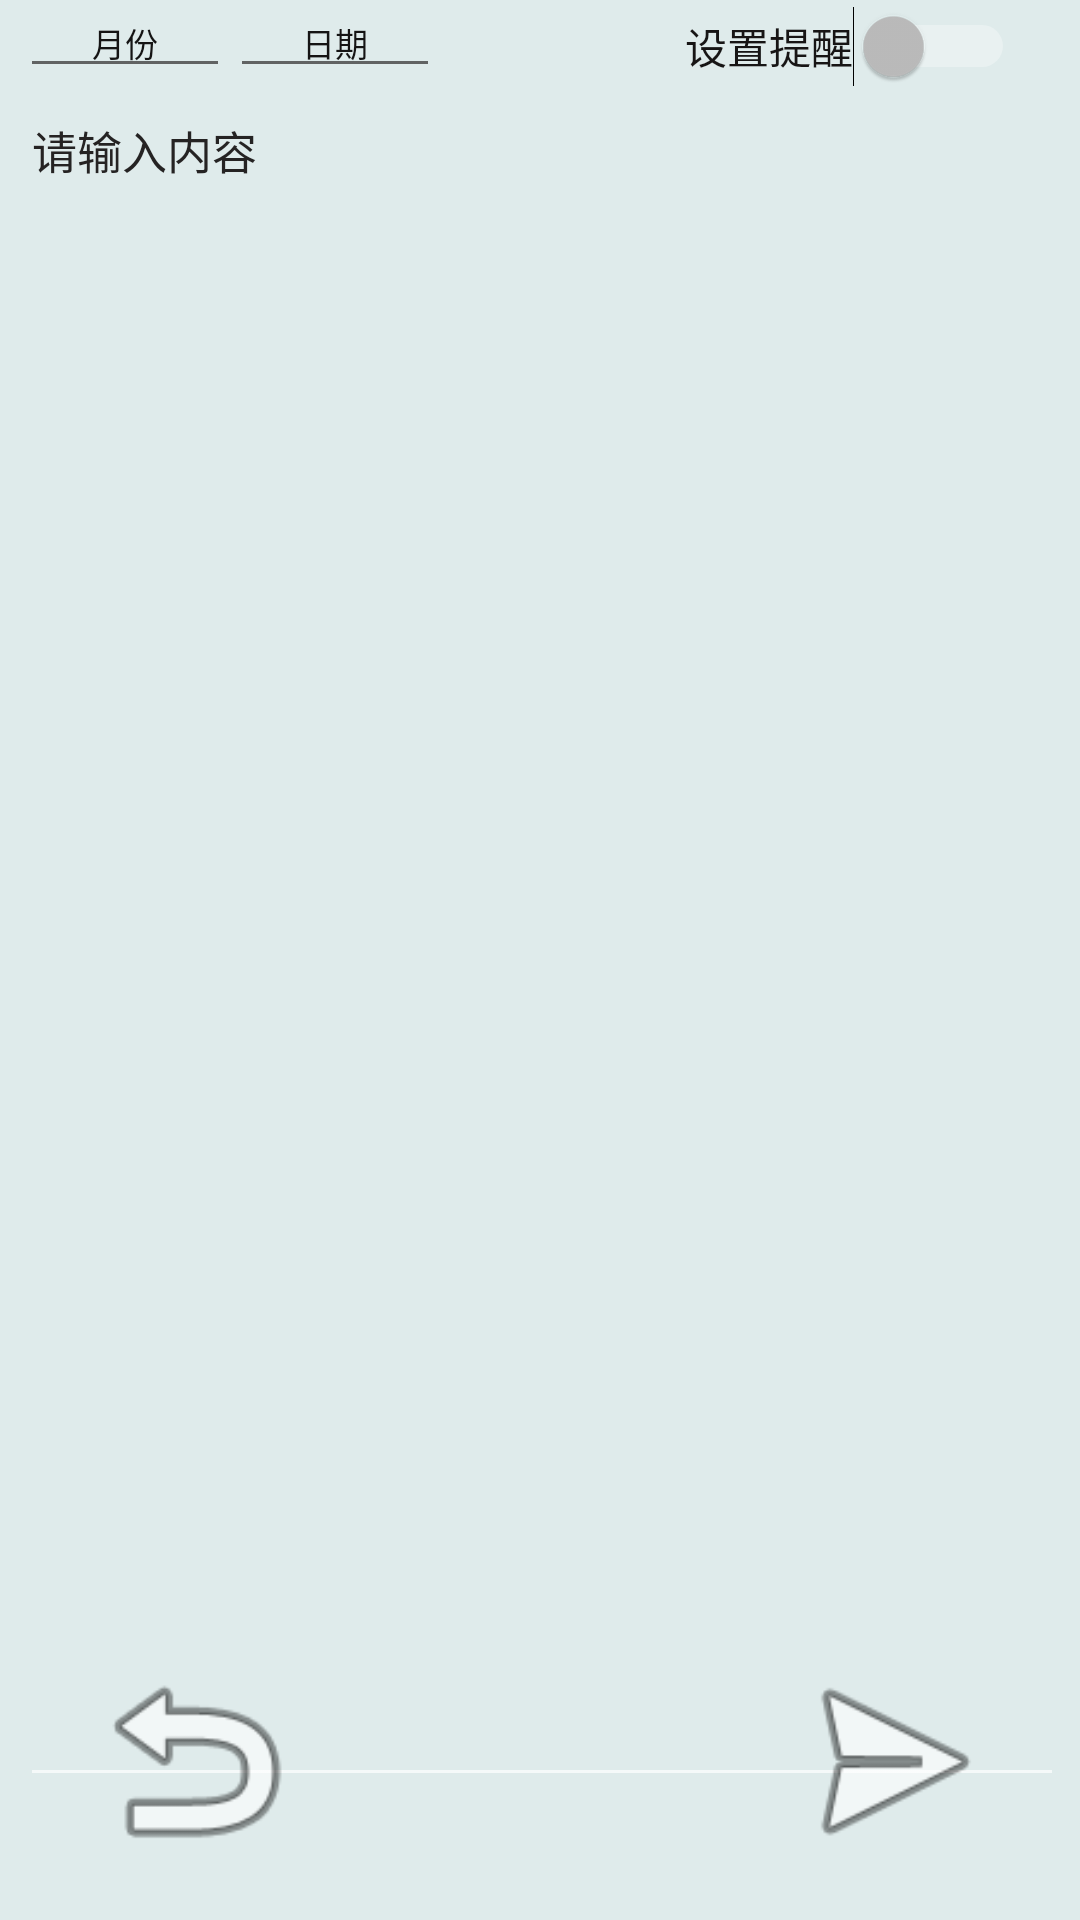

Icon click points for this 1080w x 1920h phone screenshot, format (x,y):
revert: (197,1762)
send: (895,1761)
